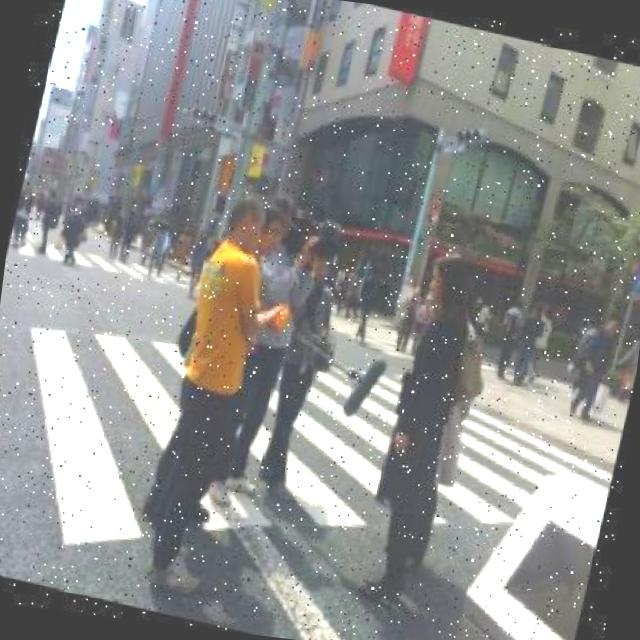Person: (131, 185, 300, 603), (352, 242, 498, 612), (566, 312, 620, 421)
